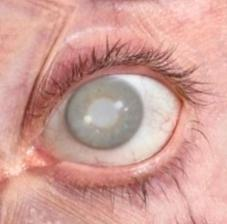eye: (65, 77, 145, 152)
